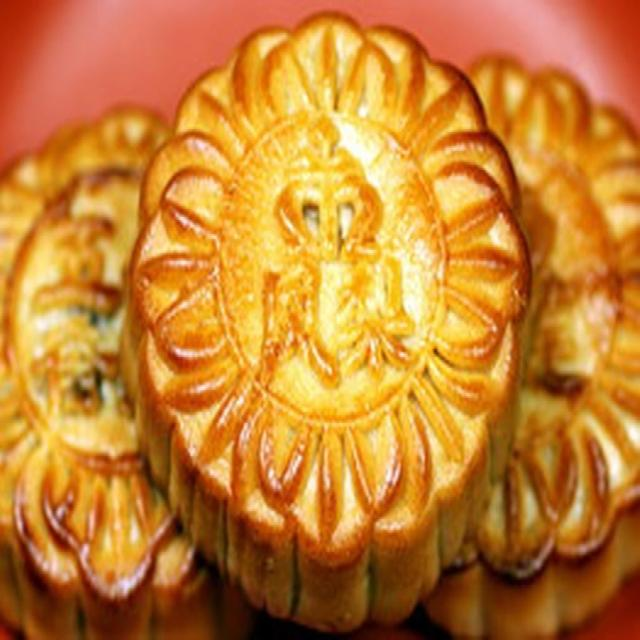蛋糕甜品: (103, 17, 538, 621)
